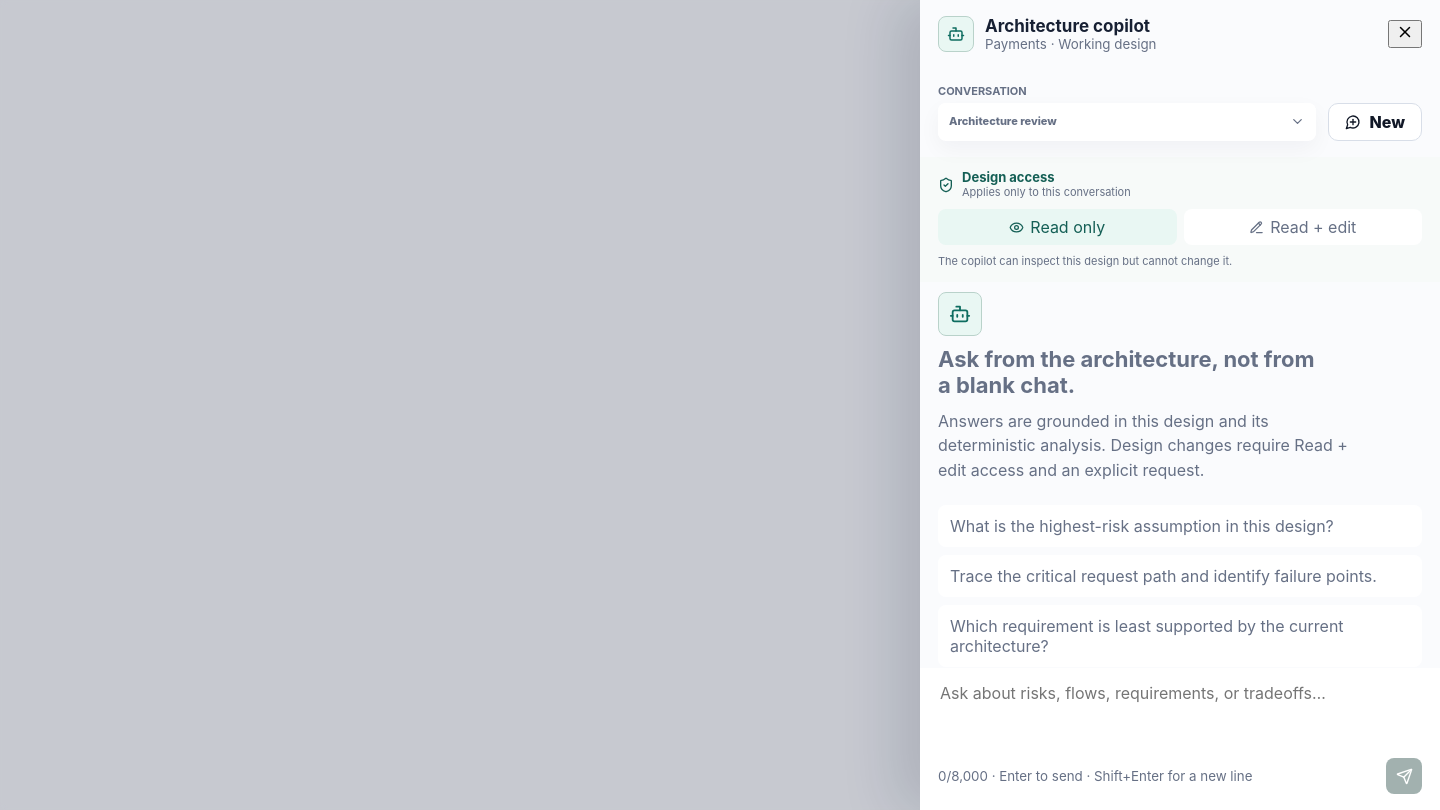
Test: AIChatPanel tool access › defaults to read-only and elevates an existing chat through the backend
The image size is (1440, 810).
(page scrolled)
Expected: the text "The copilot can inspect this design but cannot change it." is shown, [938,254,1232,268]
Click the button "Read + edit". click: (1303, 227)
box: [1184,209,1422,245]
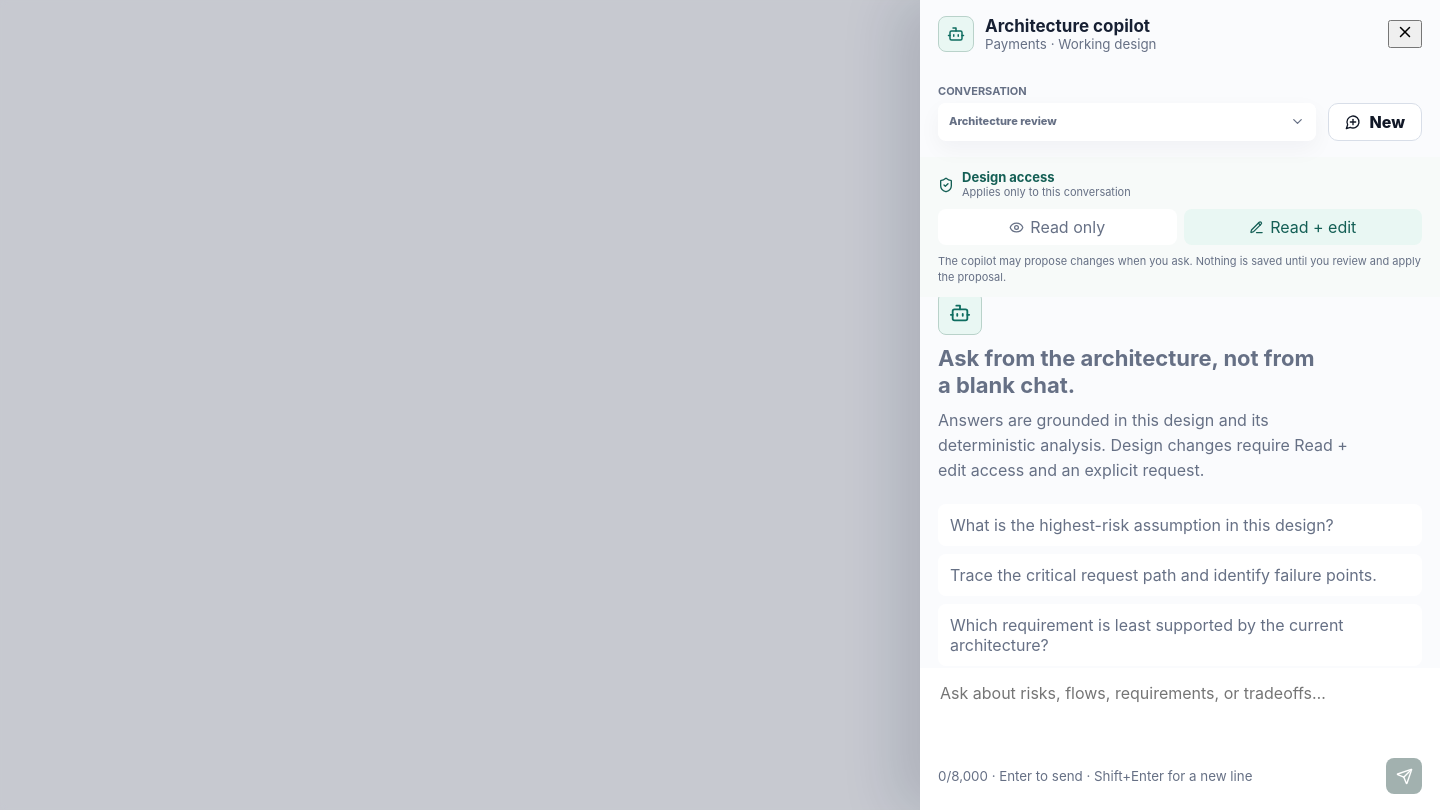
Now the text "nothing is saved until you review and apply" is shown, box [938,254,1421,284]
